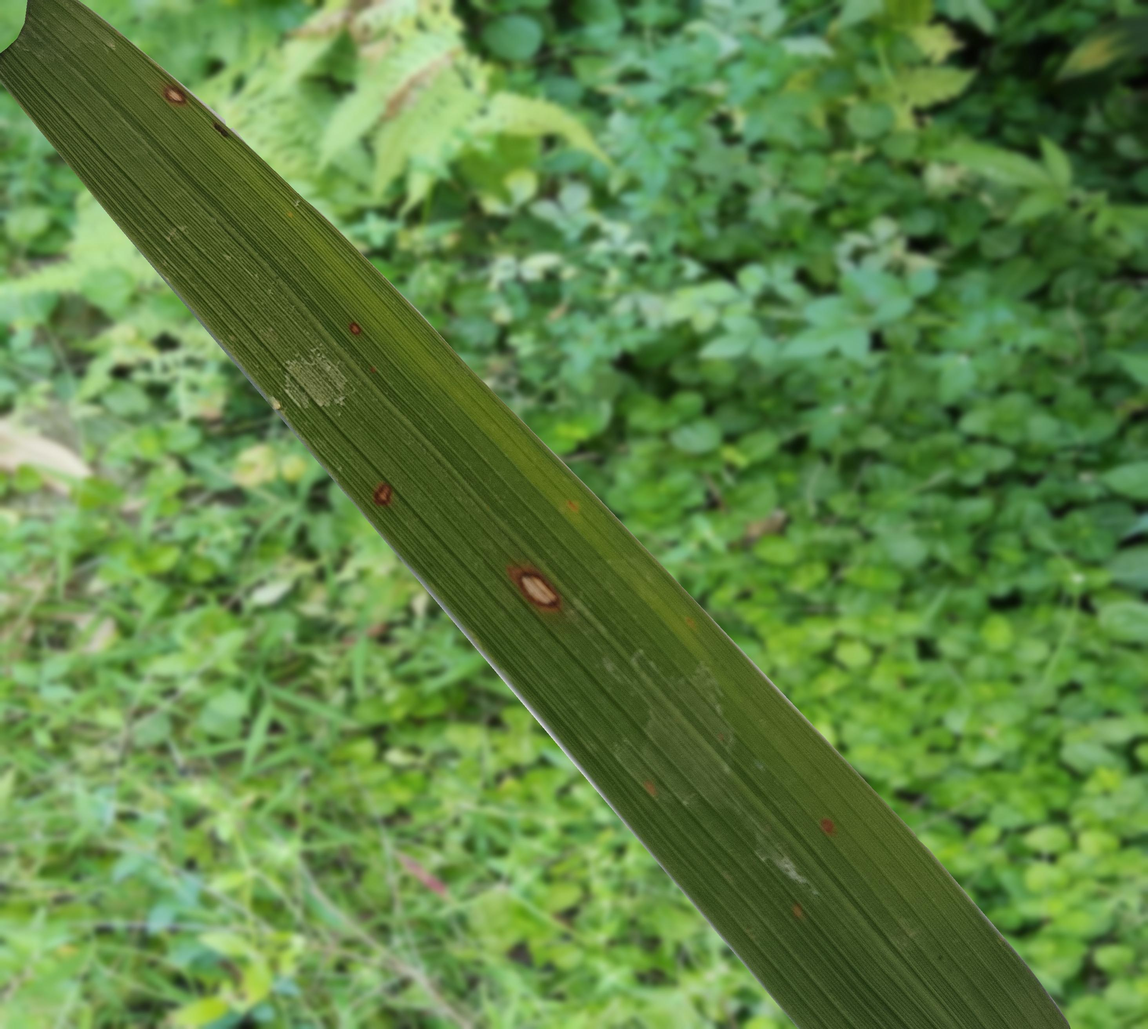LEAF BLAST: (508, 566, 561, 610), (163, 84, 187, 105), (373, 481, 392, 506), (349, 321, 361, 335)
